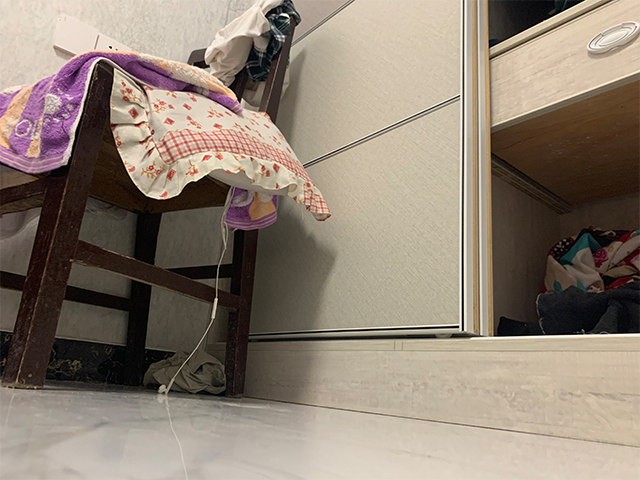cabinet: (245, 1, 640, 449)
stool: (1, 1, 301, 399)
wire: (157, 185, 236, 395)
